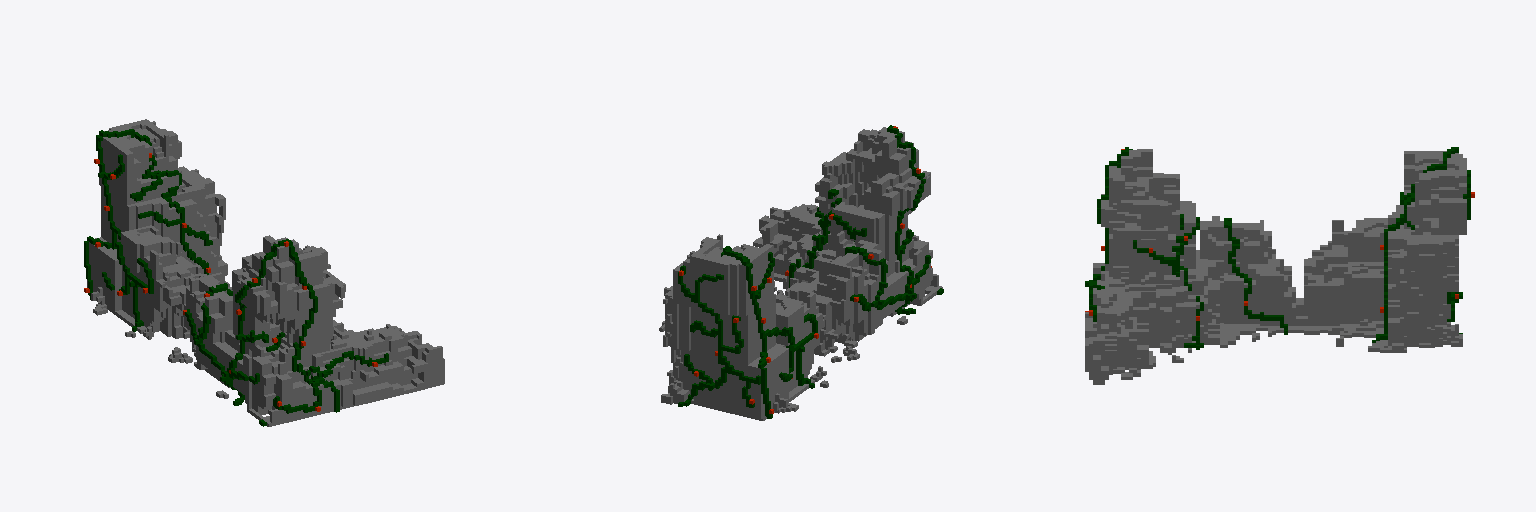
3 renders of one model, left to right at view 1: azimuth 30°, elevation 25°; view 2: azimuth 150°, elevation 25°; view 3: azimuth 270°, elevation 25°, orthographic.
Parts seen in each view (by area): view 1: ruins2; view 2: ruins2; view 3: ruins2.
Part boxes in pixels (x1,y1,x2,y2): ruins2: (84, 119, 444, 426); ruins2: (659, 125, 943, 420); ruins2: (1085, 147, 1474, 384).
Bounding box in the file's own units: 55 × 46 × 98.
Materials: 1 (1 with a texture image).